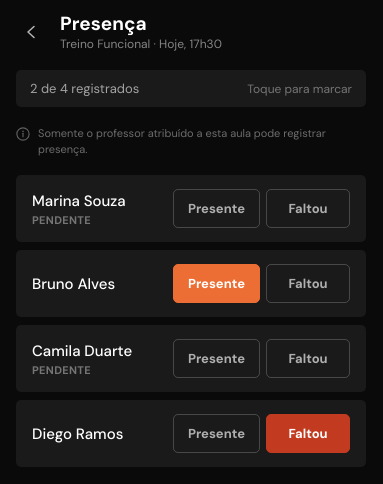
Test: Presença (professor) › marca faltou
Expected: the text "2 de 4 registrados" is shown, [30,80,139,97]
Step 1. Click the button "Faltou" in the row of "Camila Duarte" → (308, 358), box [266,339,350,378]
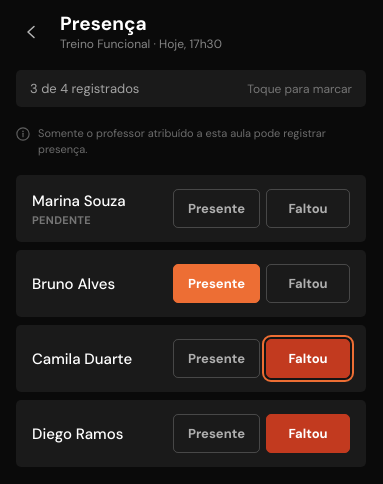
Result: the text "3 de 4 registrados" is shown at [30,80,139,97]
